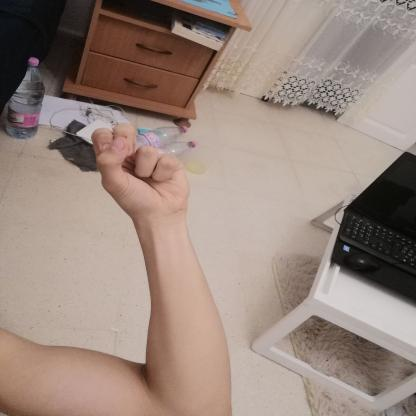QAAF: (78, 110, 210, 229)
